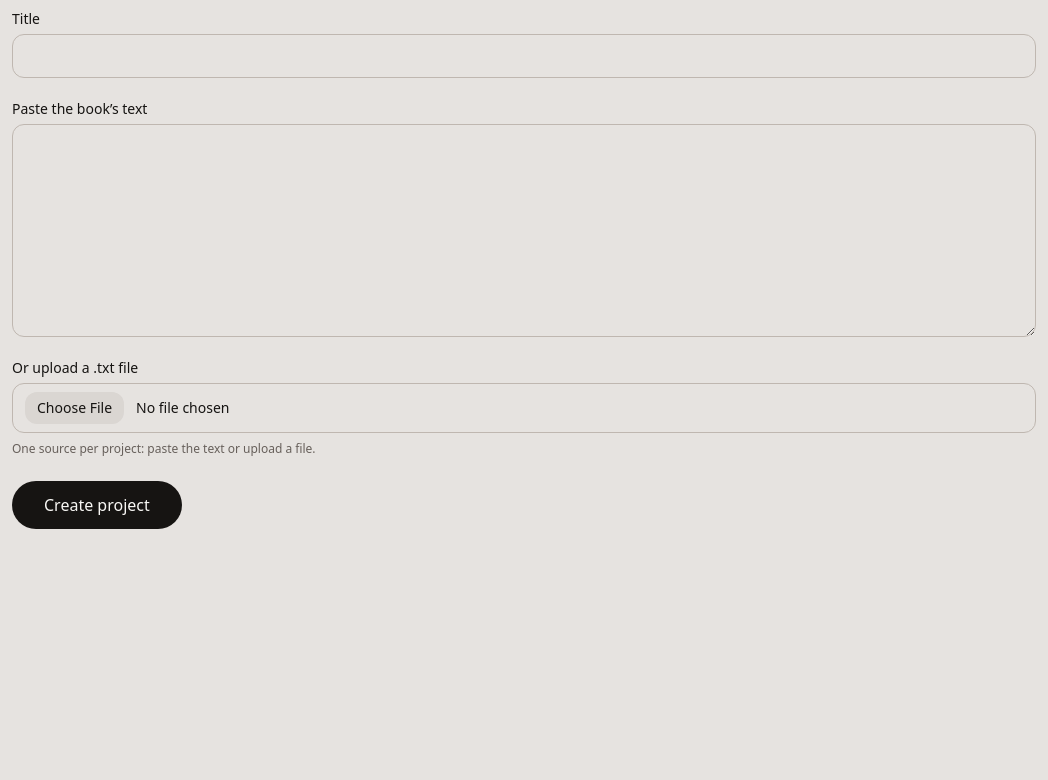
NewProjectForm › surfaces the backend's rejection and keeps the form usable
This screenshot has width=1048, height=780.
Type "Rejected" into the field labelled "Title" at (524, 56), box 12,34 -> 1036,78
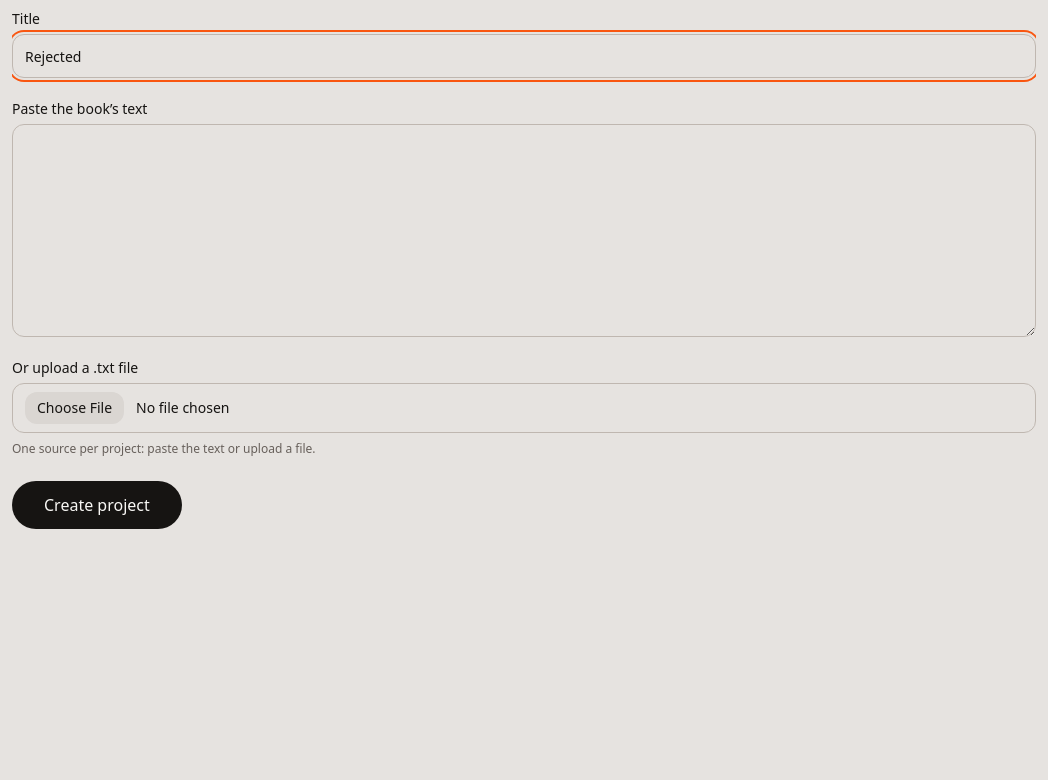
Type "text" into the text box labelled "Paste the book’s text" at (524, 230), box 12,124 -> 1036,337
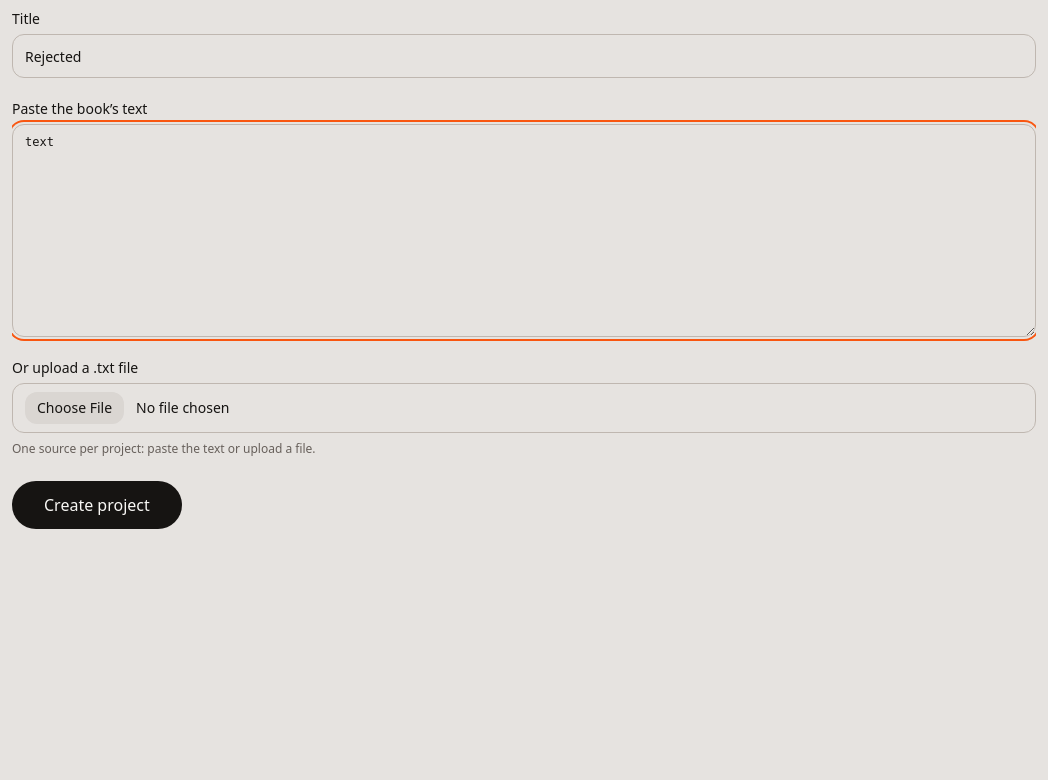
Click the button "Create project" at (97, 505), box 12,481 -> 182,529
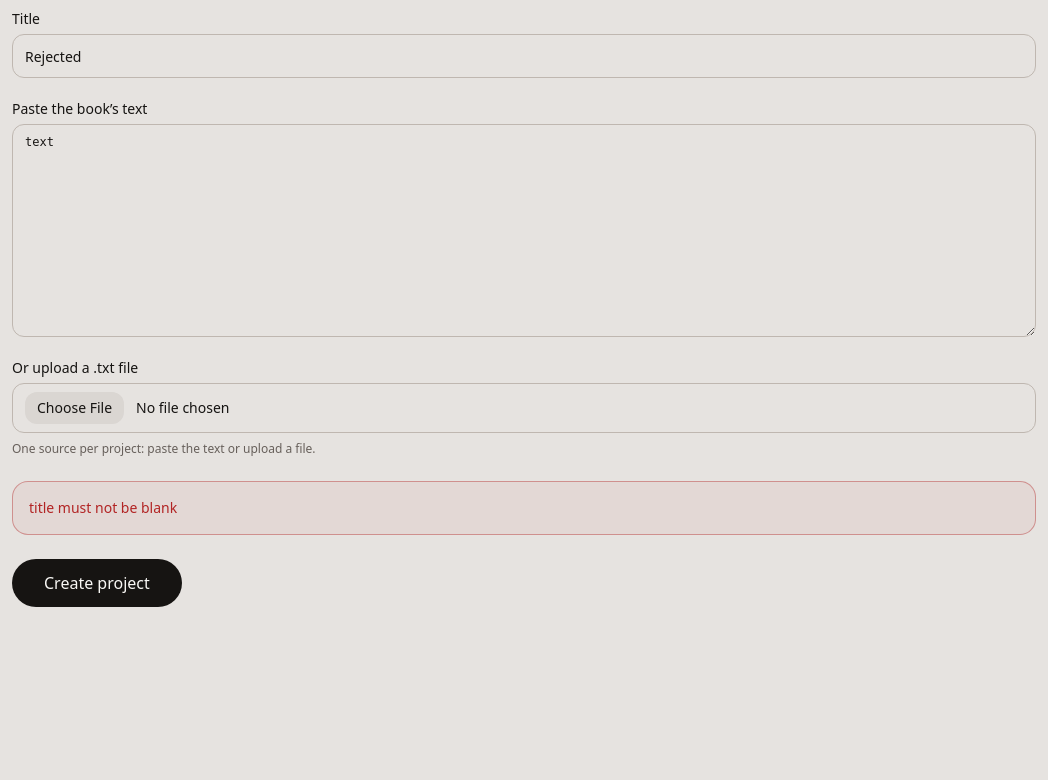
Check: the button "Create project" is enabled, box 12,559 -> 182,607
Check: the message reads "title must not be blank", box 29,498 -> 177,517
